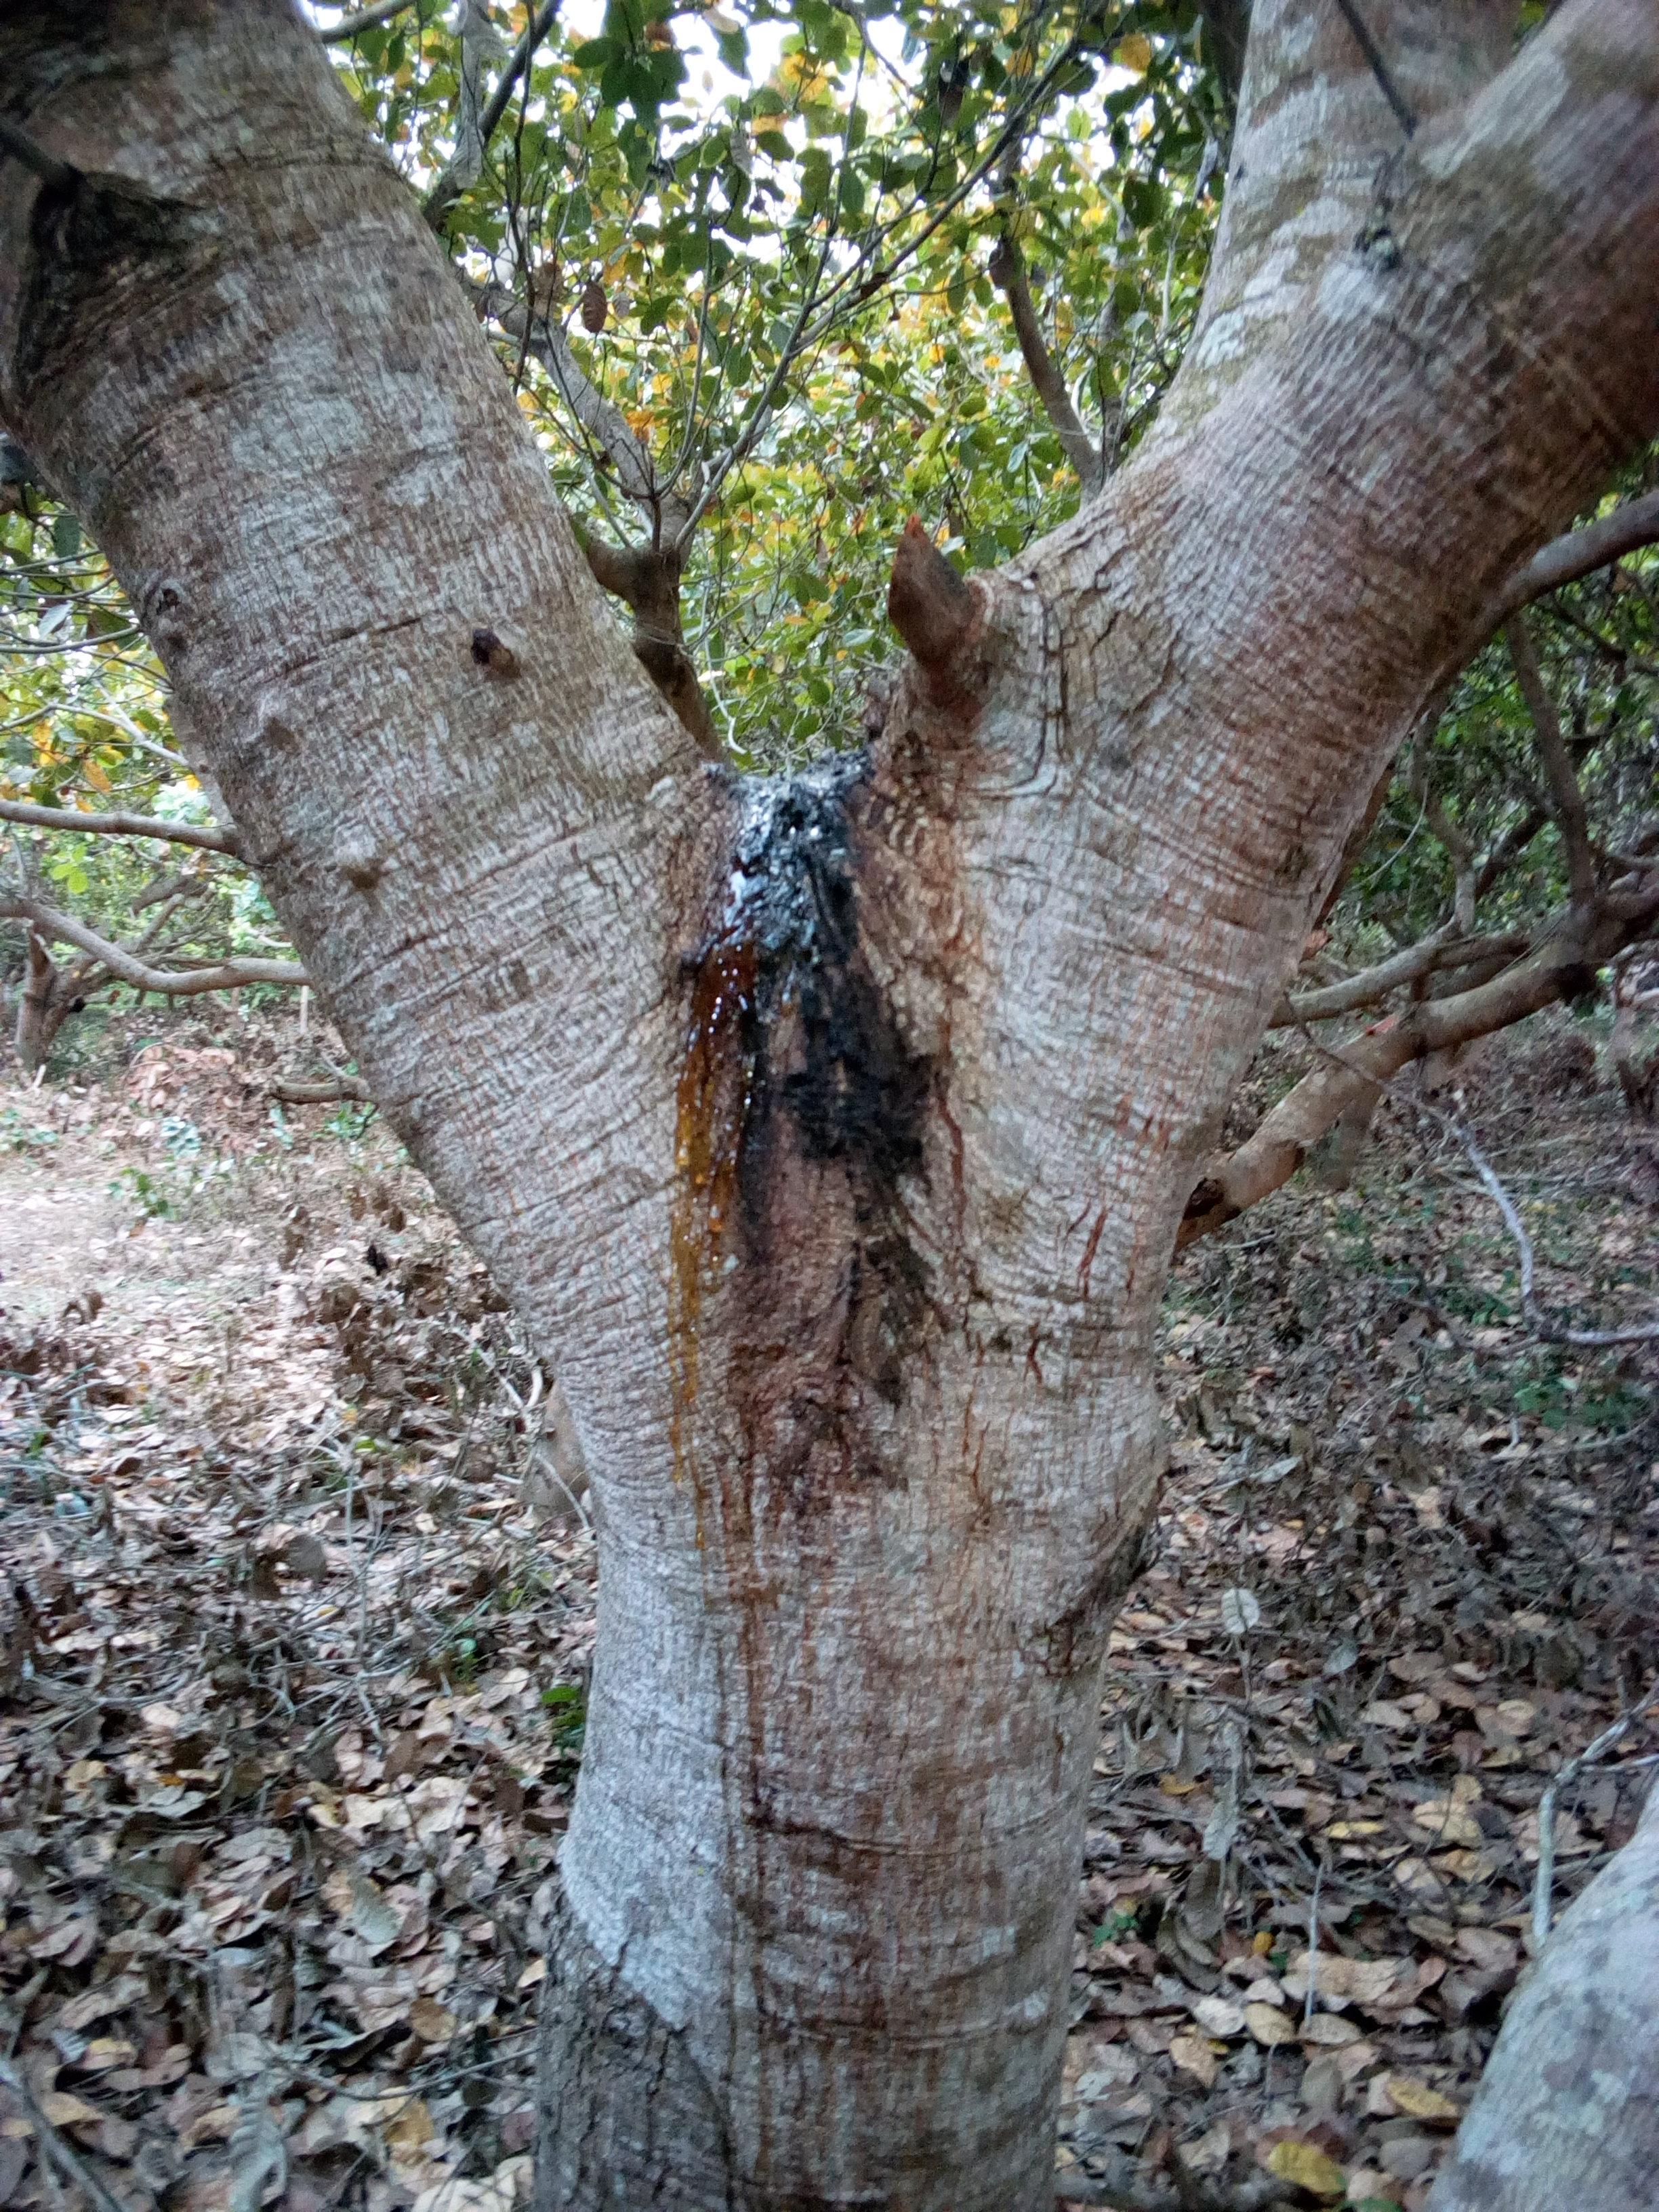Gommose: (667, 765, 927, 1461)
